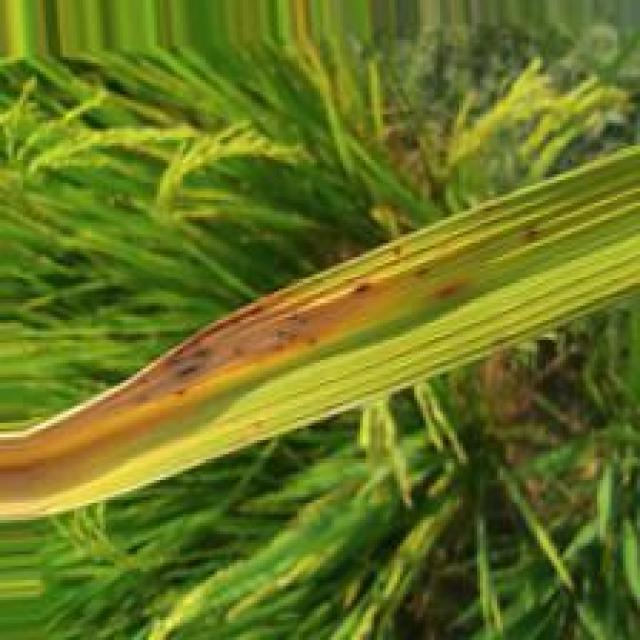Bacterial_Leaf_Blight: (0, 221, 478, 508)
